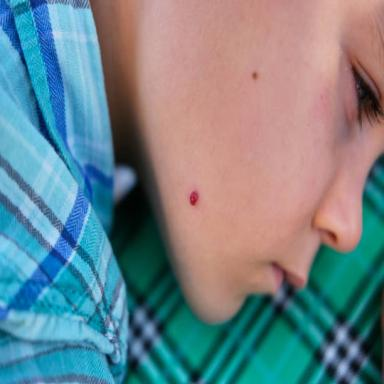Hemangiome: (190, 191, 198, 205)
